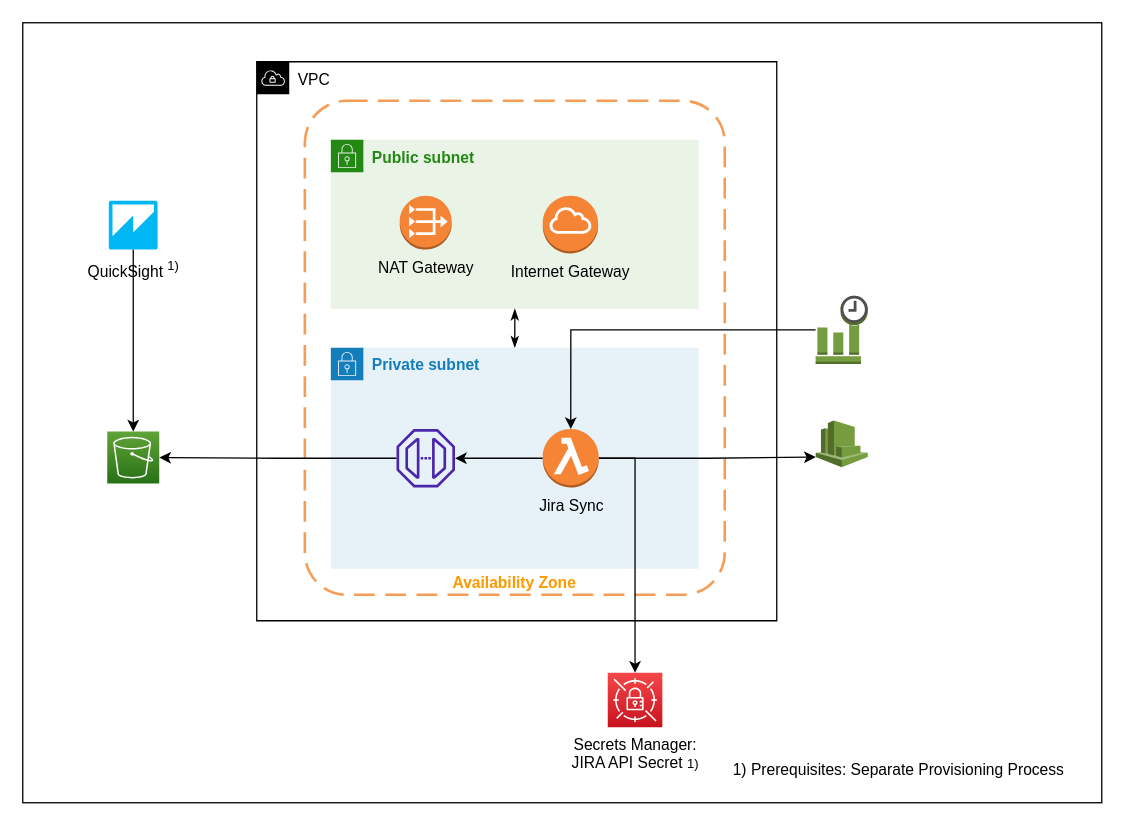
The diagram is 1125 pixels wide and 826 high, and some of its shapes have lost their labels. The shapes that lost their labels are listed below. From the top down, each one's centre as x and y in pixels, then its label:
the point at 841,329: Scheduler
the point at 132,457: Output Bucket
the point at 425,457: S3 Gateway Endpoint
the point at 841,443: CloudWatch Log Group
